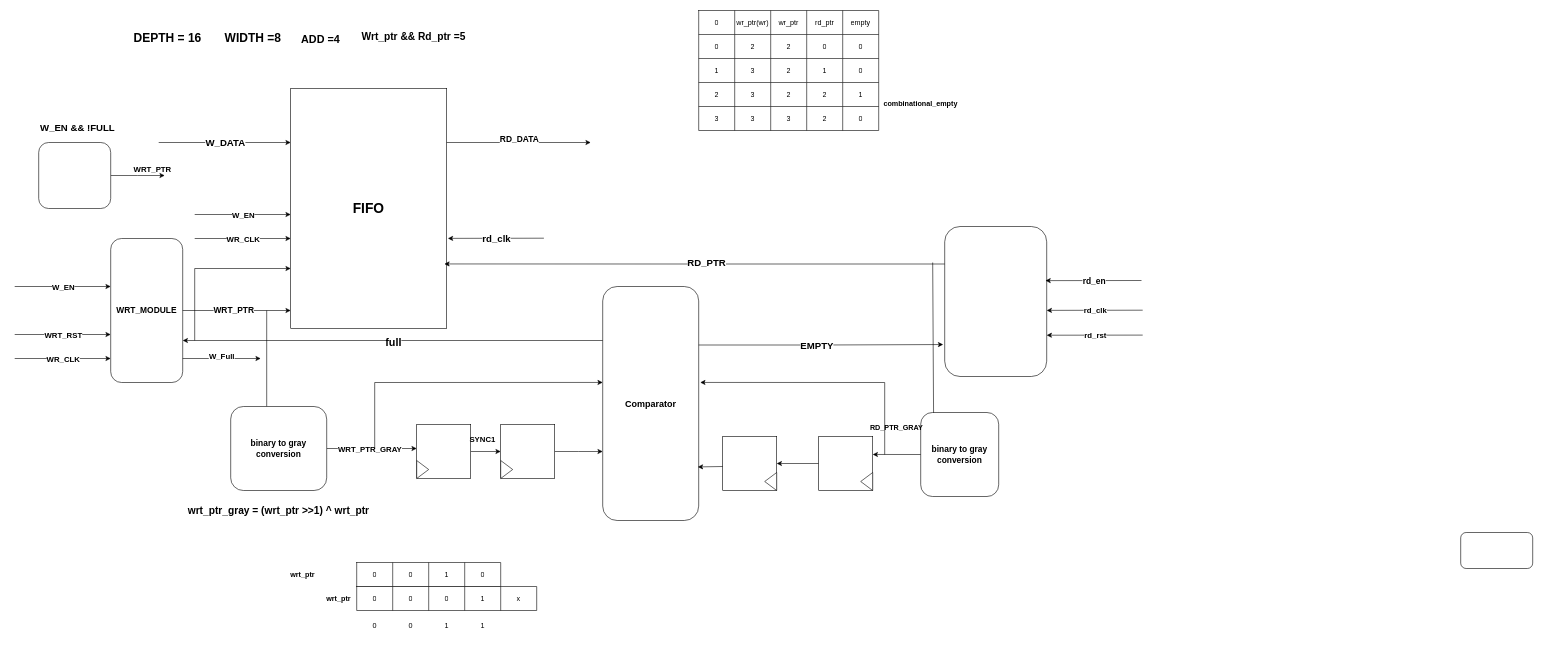
This 1543x645 diagram has some shape labels left out. The shapes that lost their labels are listed below. From the top down, each one's box as (x1, y1, x2, y2) in pixels, then its label:
(38, 142, 111, 208): Counter
(944, 226, 1047, 376): RD_MODULE
